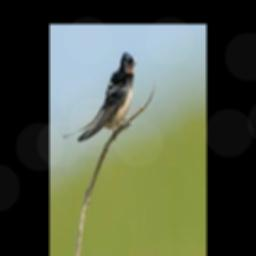Swallow: (63, 52, 136, 143)
